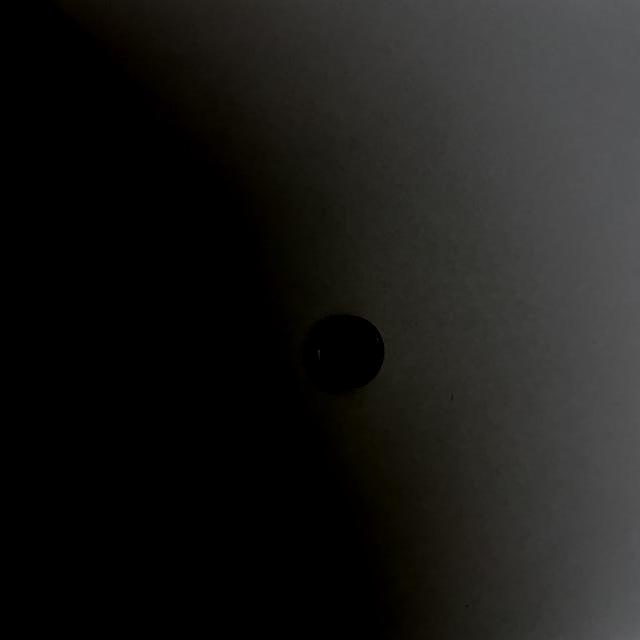COIN: (306, 315, 384, 388)
